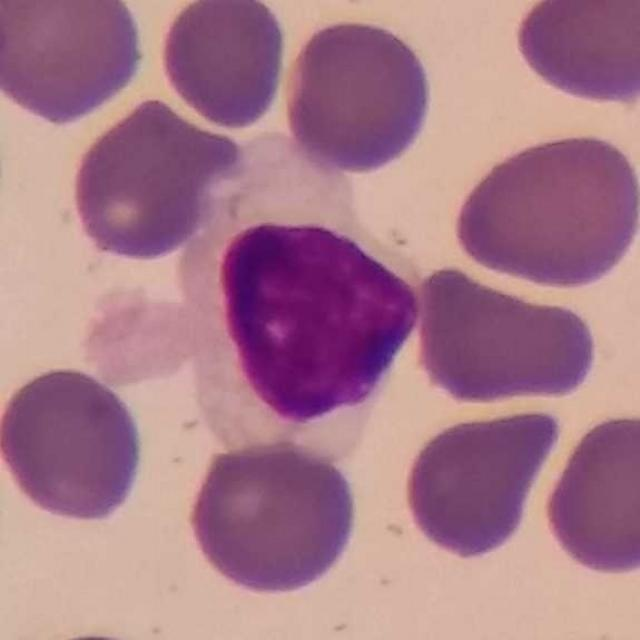Lymphocyte: (86, 140, 426, 461)
RBC: (447, 125, 639, 292), (181, 435, 364, 600), (408, 261, 604, 408), (65, 94, 229, 267), (277, 12, 439, 178), (397, 403, 562, 564), (1, 361, 149, 528), (0, 0, 150, 126), (154, 0, 291, 132), (537, 406, 640, 580), (507, 0, 640, 108), (74, 278, 204, 388)
